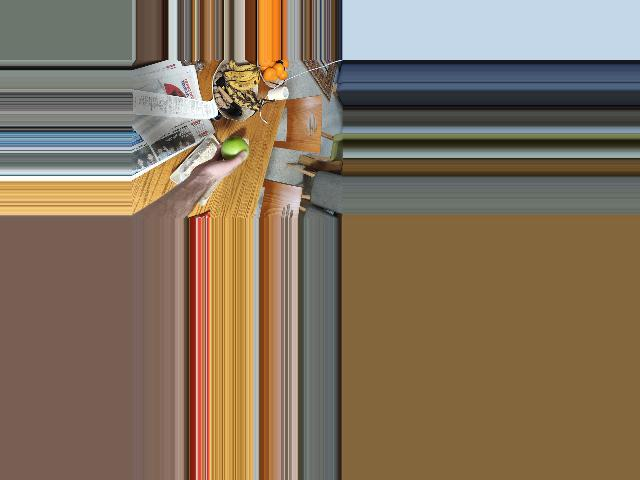apple: (218, 137, 250, 166)
